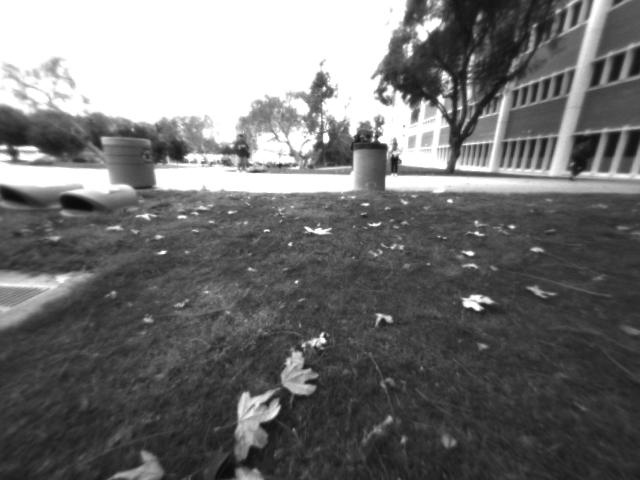trashcan: (96, 129, 163, 191), (349, 135, 392, 196)
